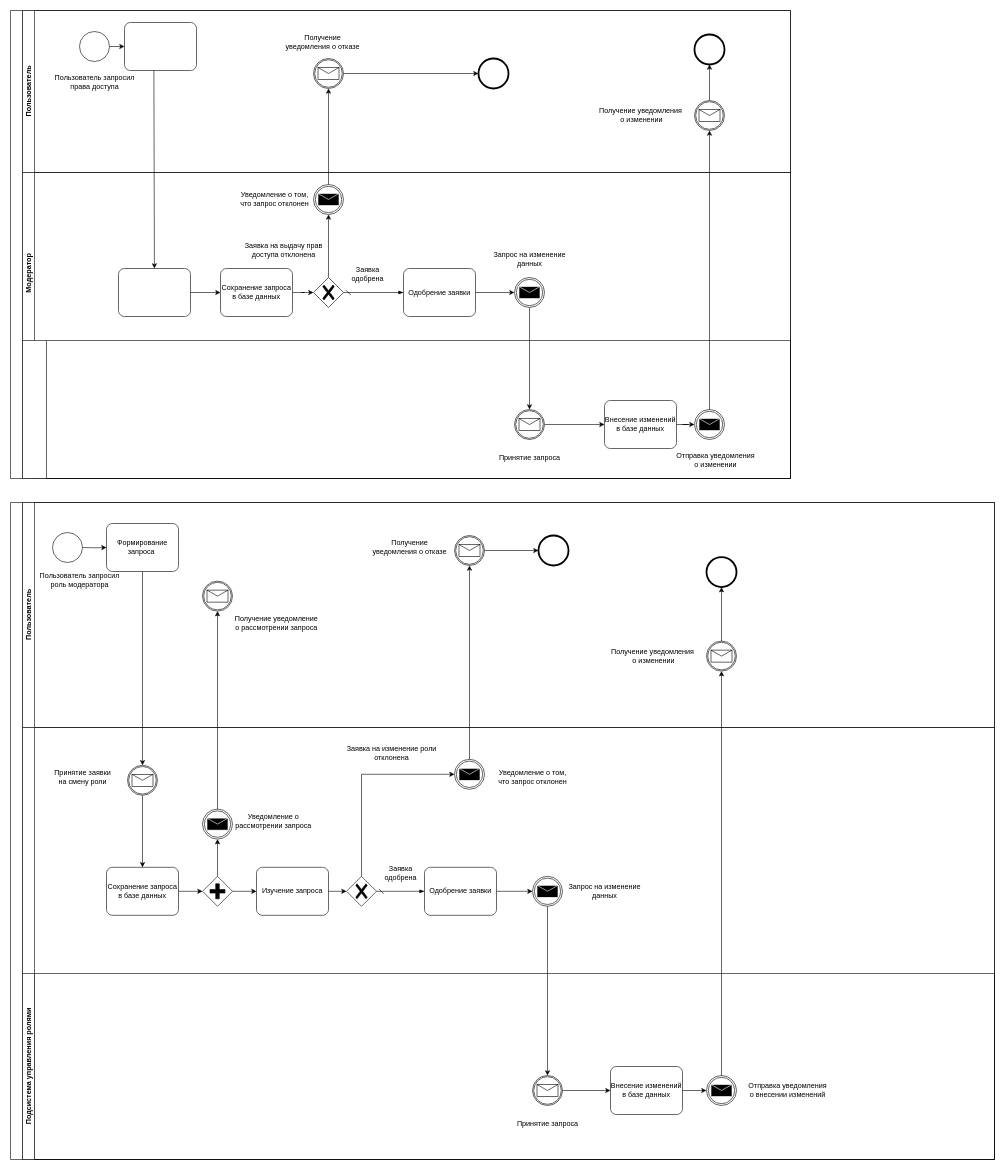
This 1005x1170 diagram has some shape labels left out. Each missing label, with the box of its shape:
Администратор: (22, 727, 994, 1160)
Запрос на выдачу роли модератора: (10, 502, 994, 1160)
Запрос прав доступа: (10, 10, 790, 478)
Изучения запроса прав доступа: (118, 268, 190, 316)
Подсистема управления доступа к файлом: (22, 340, 790, 478)
Формирование запроса предоставление прав доступа модератору: (124, 22, 196, 70)
